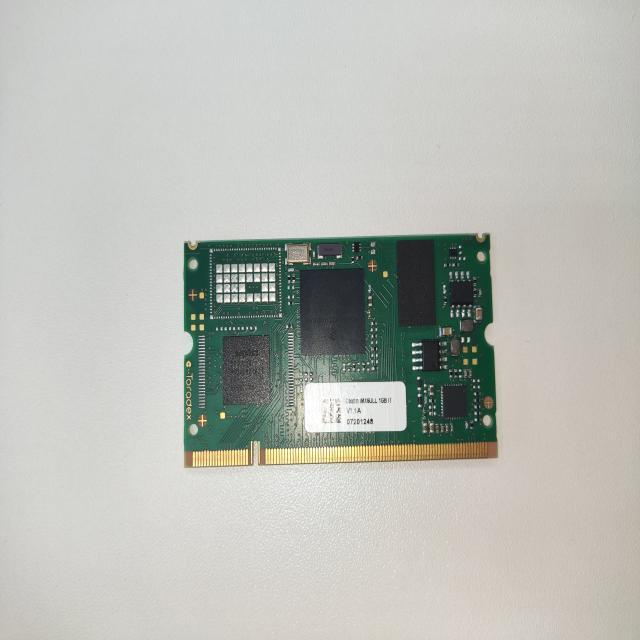som: (169, 220, 515, 480)
